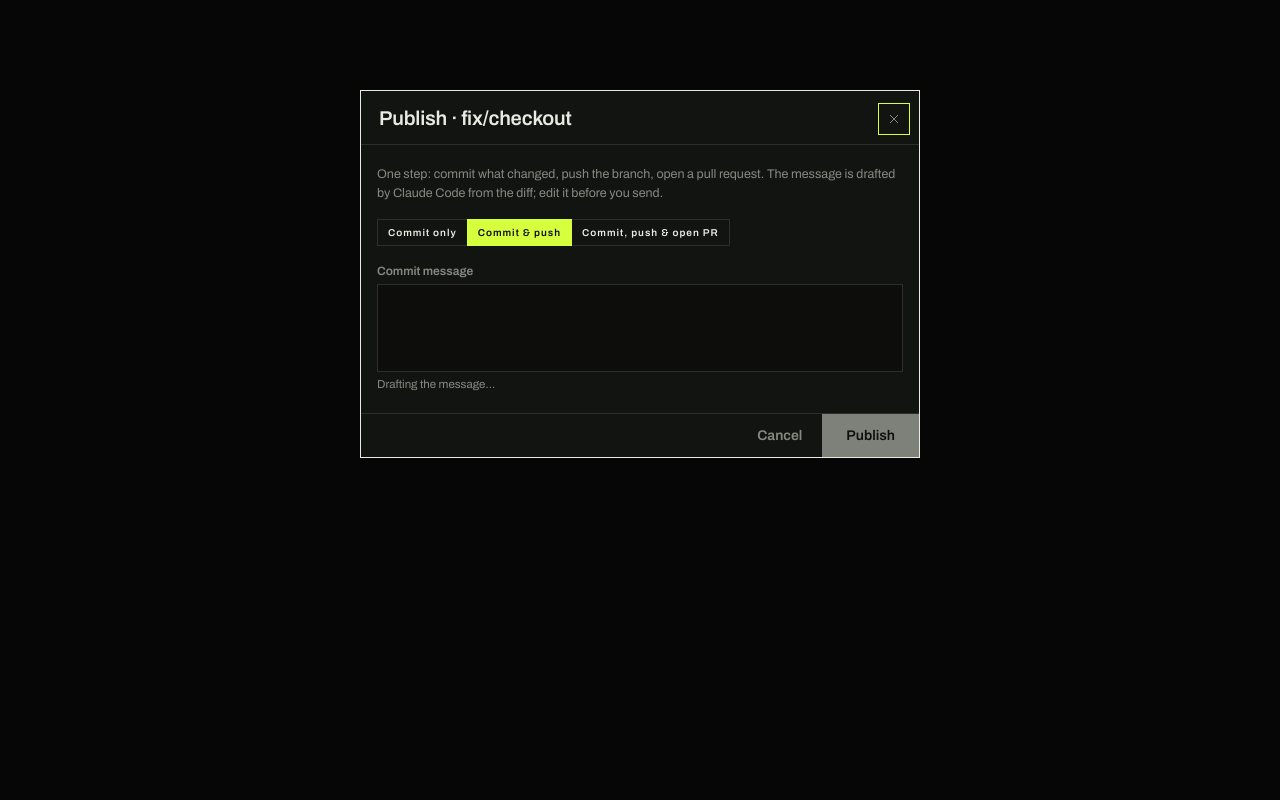
Test: PublishModal › a clean tree reads "Nothing to commit"; an already-open PR reads "already exists"
The image size is (1280, 800).
Click the radio button labelled "Commit, push & open PR": (650,232) [571,218,730,246]
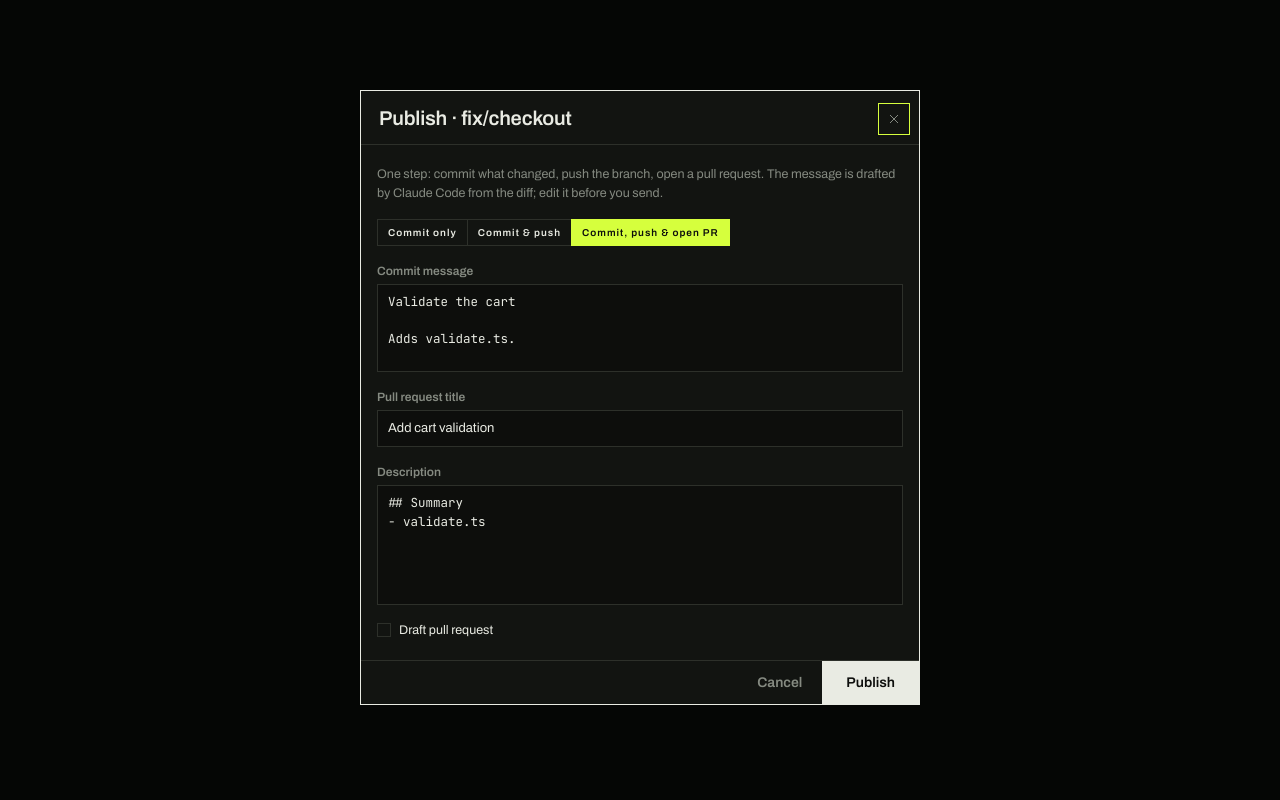
Check: the field labelled "Pull request title" holds "Add cart validation", box [388,418,892,438]
Click the button "Publish": (871,682) [822,661,919,704]
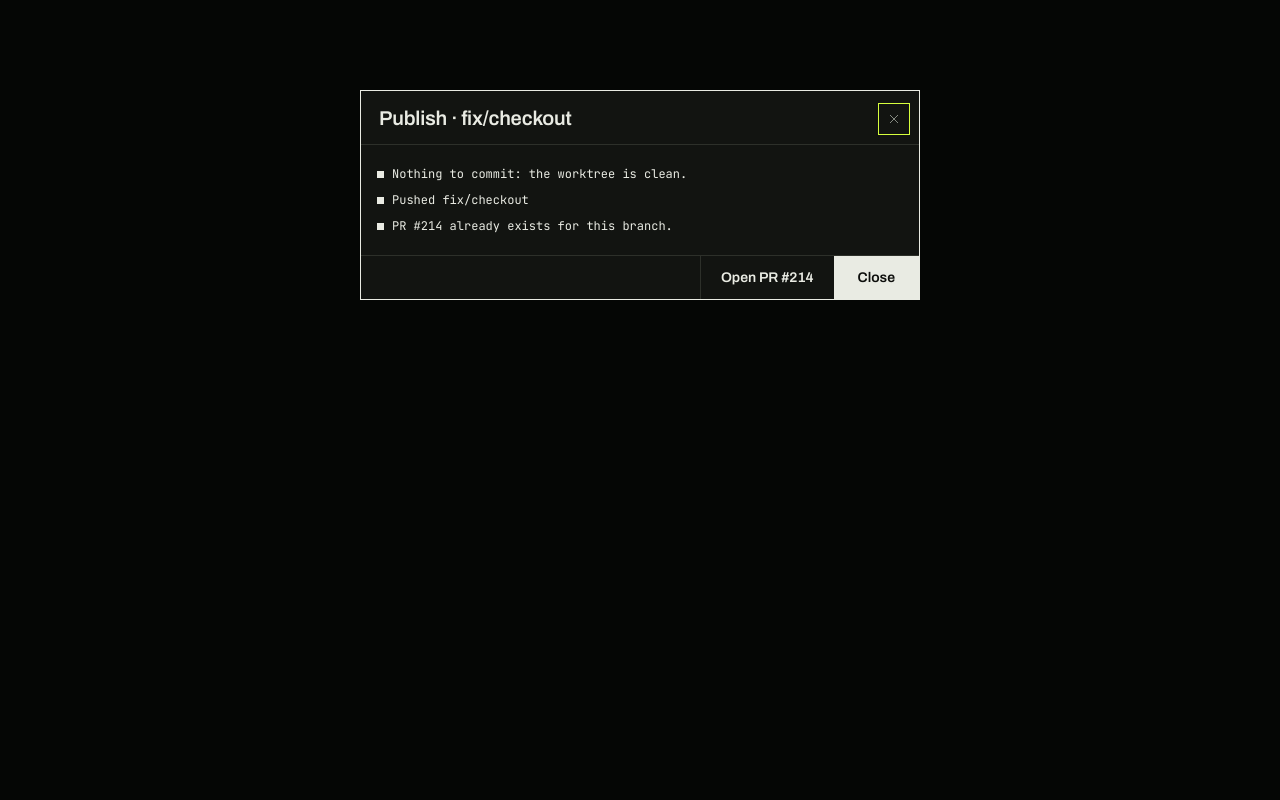
Check: the list item "Nothing to commit: the worktree is clean." is shown, box [377,166,687,182]
Check: the list item "PR #214 already exists for this branch." is shown, box [377,218,673,234]
